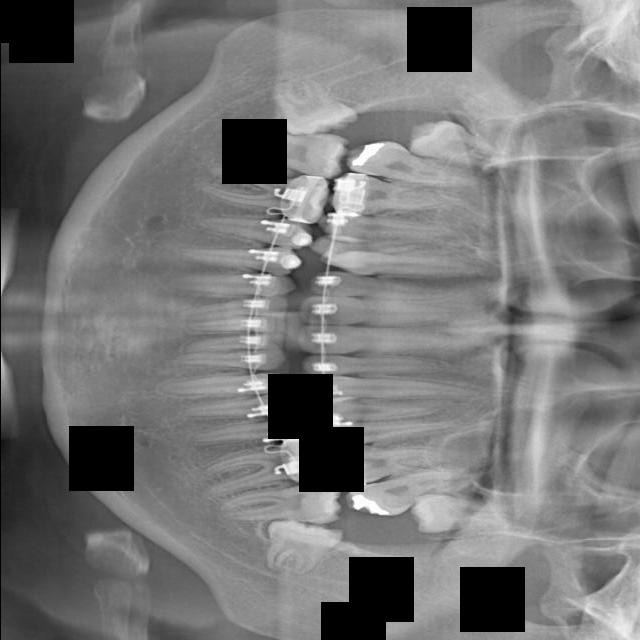3M ESPE Implant: (405, 113, 519, 174)
AGS Medikal Implant: (218, 482, 340, 527)
AMerOss Implant: (196, 433, 330, 499)
Amalgam filling: (342, 133, 474, 194)
Anthogyr Implant: (194, 416, 310, 446)
Bicon Implant: (181, 390, 299, 417)
BioHorizons Implant: (162, 370, 291, 402)
BioLife Implant: (177, 349, 283, 370)
Biomet 3i Implant: (184, 332, 284, 353)
Blue Sky Bio Implant: (190, 314, 284, 334)
Camlog Implant: (179, 294, 291, 321)
Caries: (302, 351, 452, 376)
Composite filling: (167, 272, 294, 299)
Cowellmedi Implant: (184, 234, 302, 277)
Crown: (195, 198, 315, 252)
DENTSPLY Implant: (330, 169, 465, 224)
Dentatus Implant: (198, 152, 333, 226)
Dentis Implant: (221, 112, 351, 183)
Dentium Implant: (269, 66, 356, 144)
Euroteknika Implant: (315, 209, 473, 254)
Filling: (313, 237, 448, 257)
Frontier Implant: (324, 253, 487, 278)
Hiossen Implant: (302, 373, 480, 402)
Implant: (299, 293, 467, 330)
Implant Direct: (309, 267, 455, 305)
Keystone Dental Implant: (299, 324, 457, 355)
MIS Implant: (307, 394, 451, 426)
Mandible: (323, 416, 464, 448)
Maxilla: (331, 432, 459, 488)
Megagen Implant: (344, 460, 468, 526)
Neodent Implant: (407, 483, 515, 538)
Neoss Implant: (262, 517, 345, 580)
